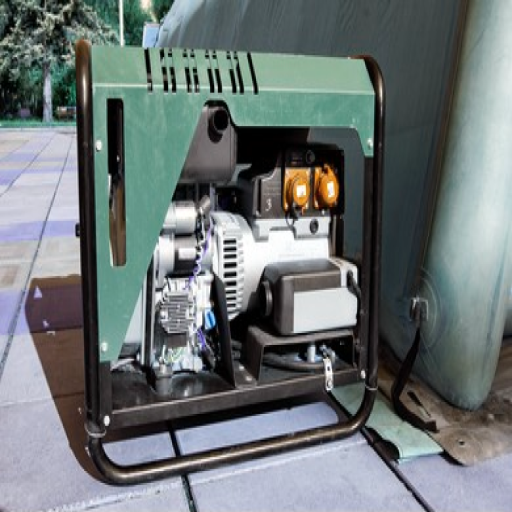portable_generator: (75, 40, 387, 487)
